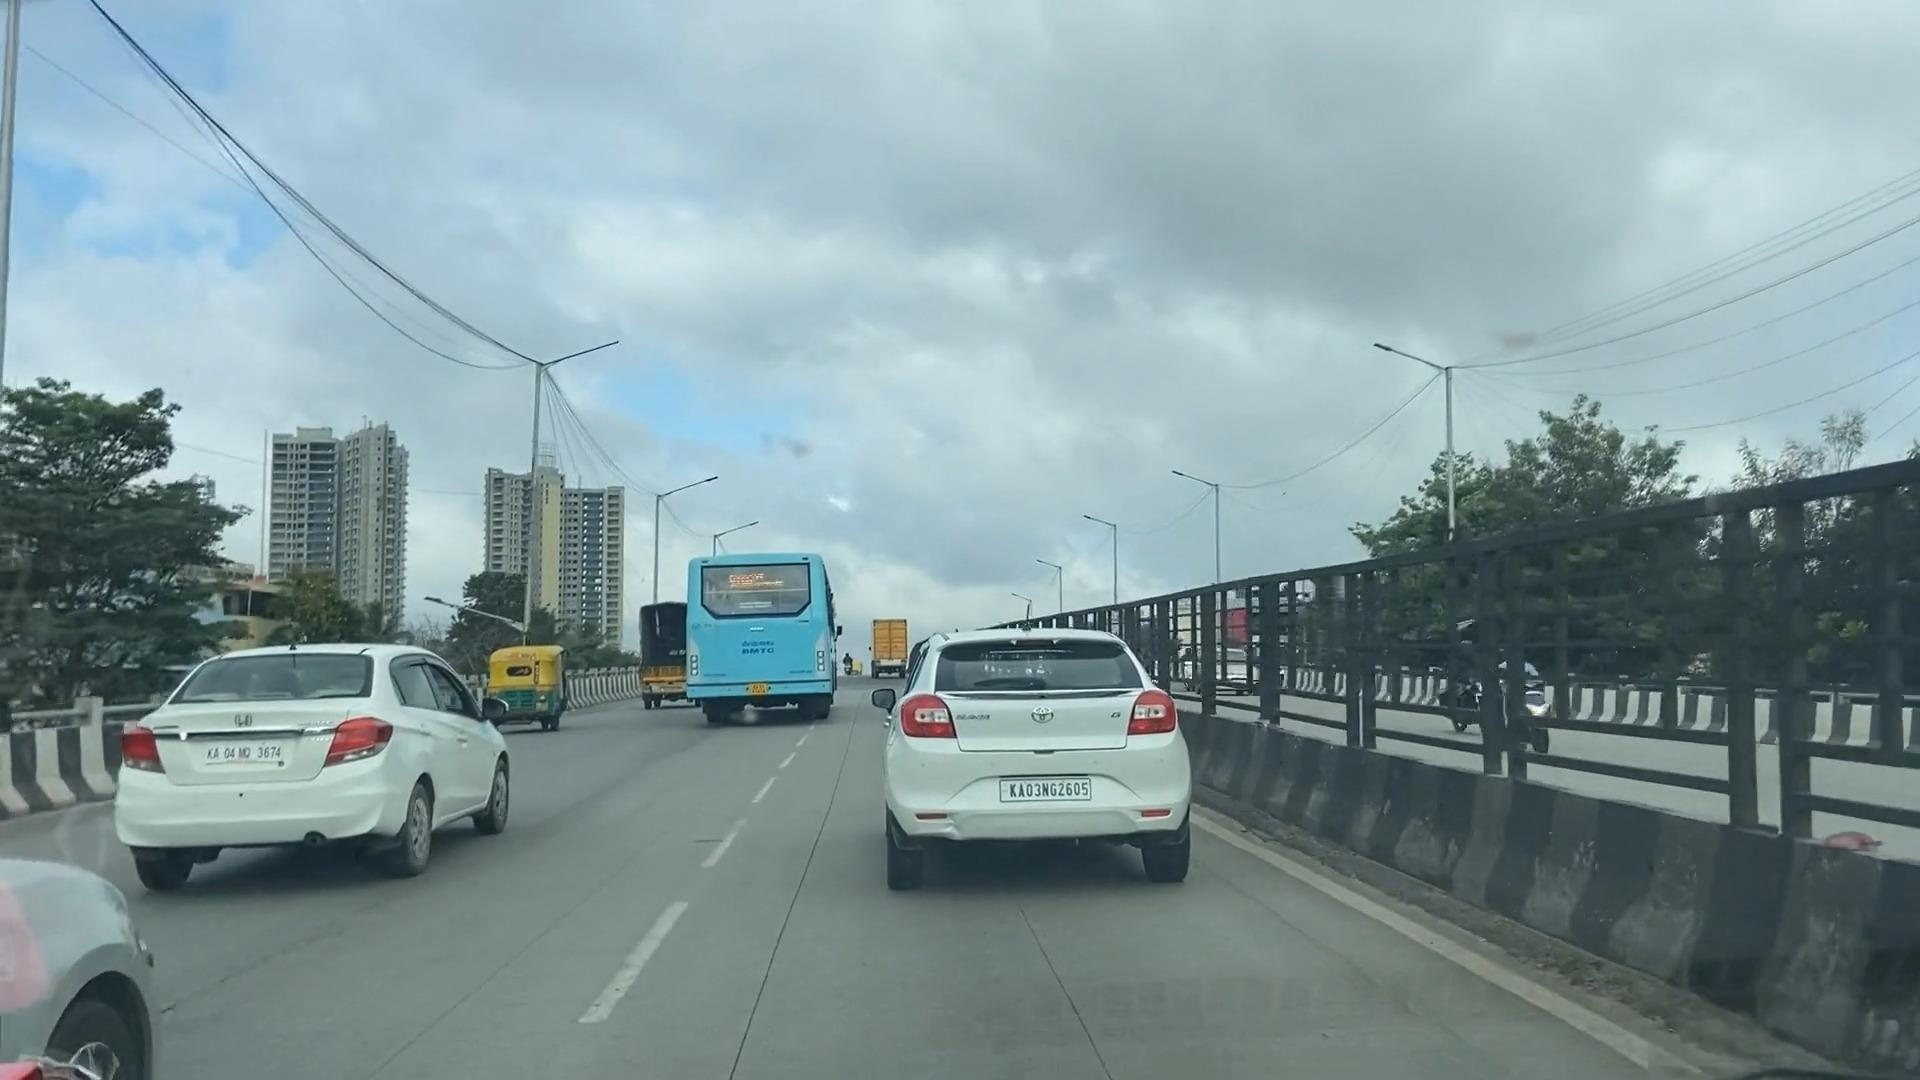HMV: (683, 538, 845, 752)
LMV: (862, 616, 1265, 911)
